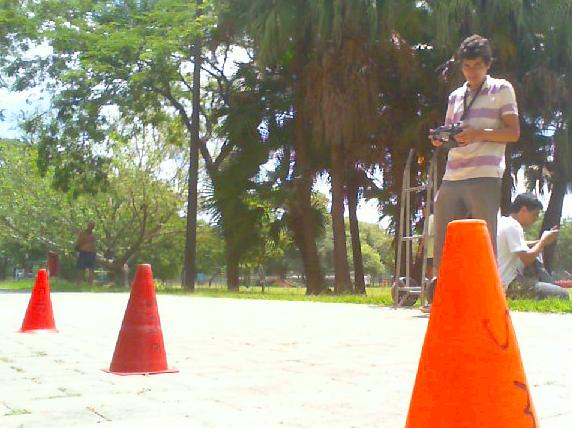0 cone: (400, 219, 548, 428), (101, 264, 179, 376), (16, 269, 59, 333)
